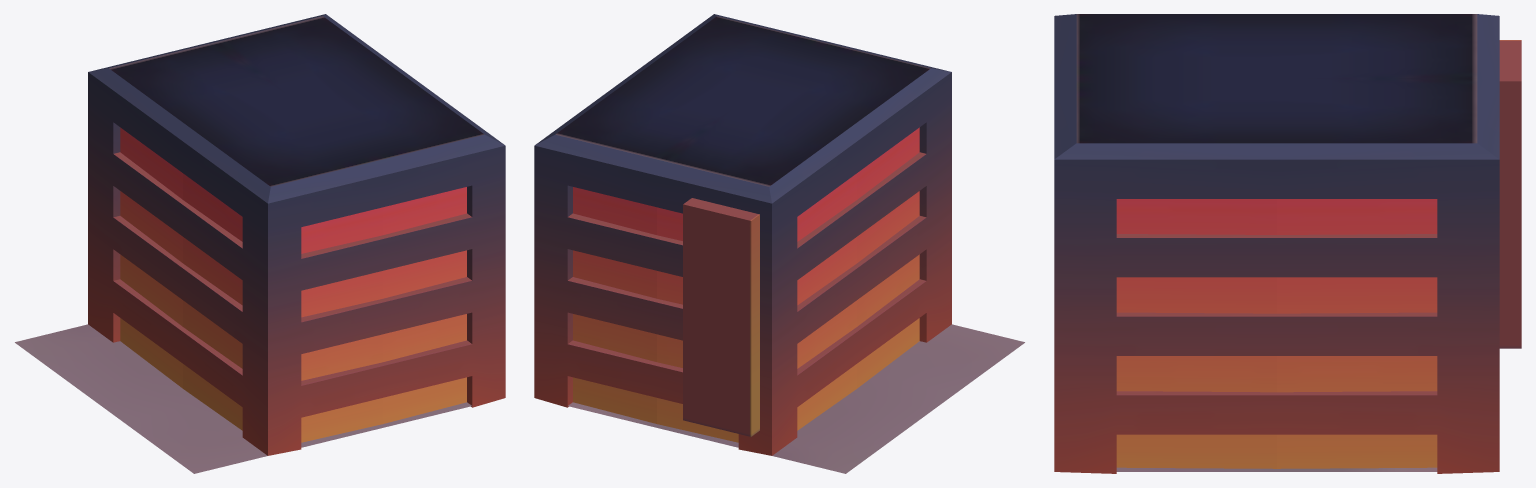
The model's file is build03.FBX.
The picture shows the model from 3 angles, left to right: view 1: azimuth 30°, elevation 25°; view 2: azimuth 150°, elevation 25°; view 3: azimuth 270°, elevation 25°; orthographic projection. The views are drawn at different scales.
Parts seen in each view (by area): view 1: build03; view 2: build03; view 3: build03.
Boxes of the visible parts, x1,y1,x2,y2 form: build03: (15,14,505,473); build03: (534,14,1024,473); build03: (1054,14,1521,473).
Size of the model in its own units: 1 by 1.05 by 0.8016.
Materials: 1 (1 with a texture image).
